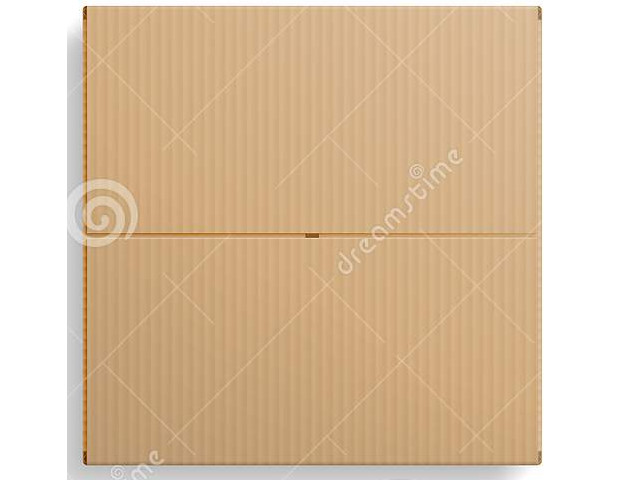cardboard: (82, 5, 541, 465)
